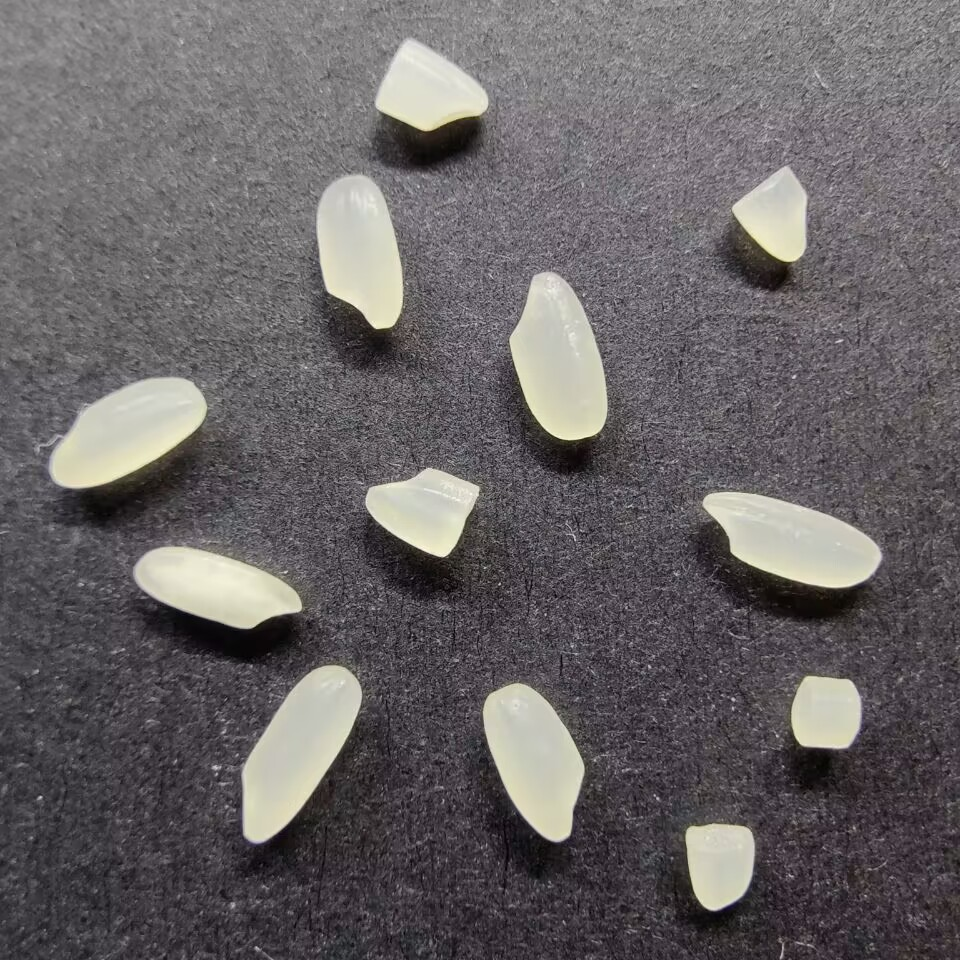broken: (371, 36, 489, 133), (363, 465, 481, 558), (728, 165, 812, 263), (680, 822, 756, 912), (788, 674, 863, 750)
rice: (238, 663, 363, 845), (47, 375, 206, 490), (699, 490, 881, 590), (507, 270, 610, 441), (480, 682, 586, 844), (129, 545, 303, 630), (315, 174, 405, 329)
